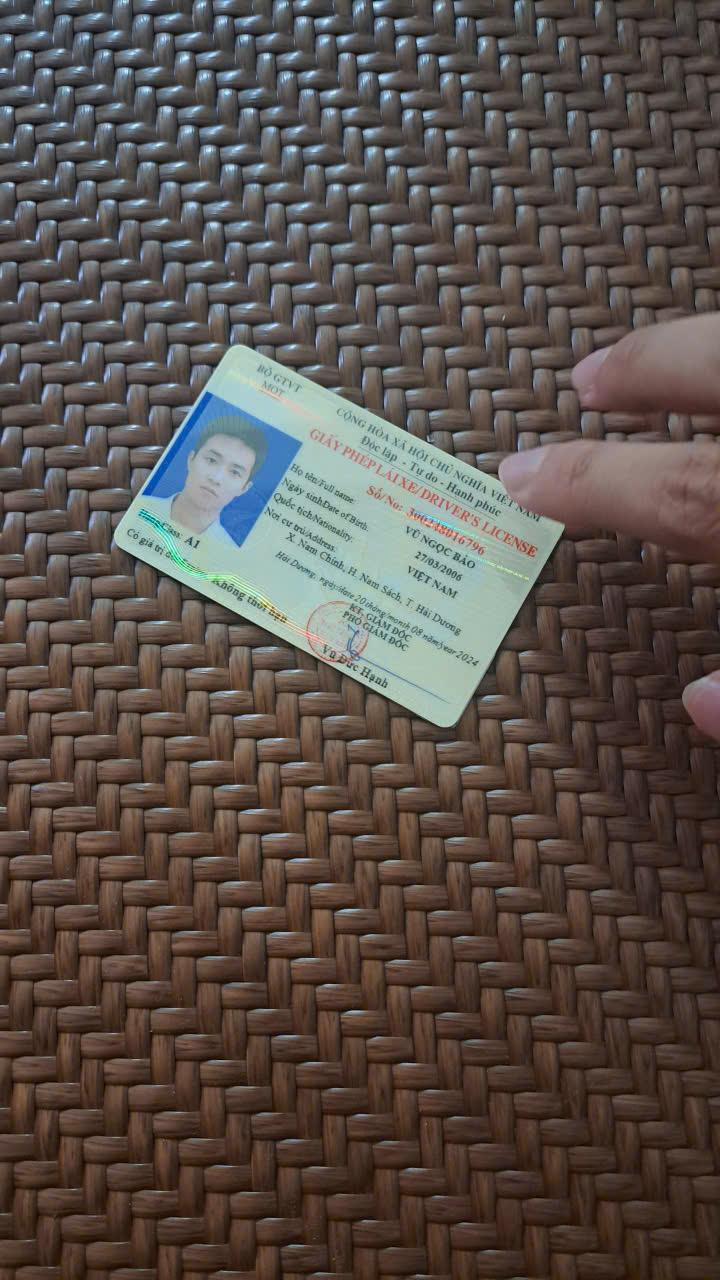gplx: (108, 335, 568, 748)
